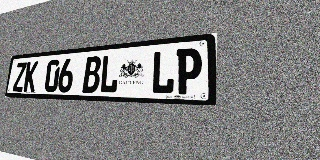0: (44, 59, 61, 92)
6: (57, 58, 75, 92)
B: (82, 56, 102, 93)
K: (23, 61, 38, 92)
L: (150, 50, 176, 94), (99, 54, 120, 93)
P: (175, 47, 202, 95)
Z: (12, 62, 27, 92)
